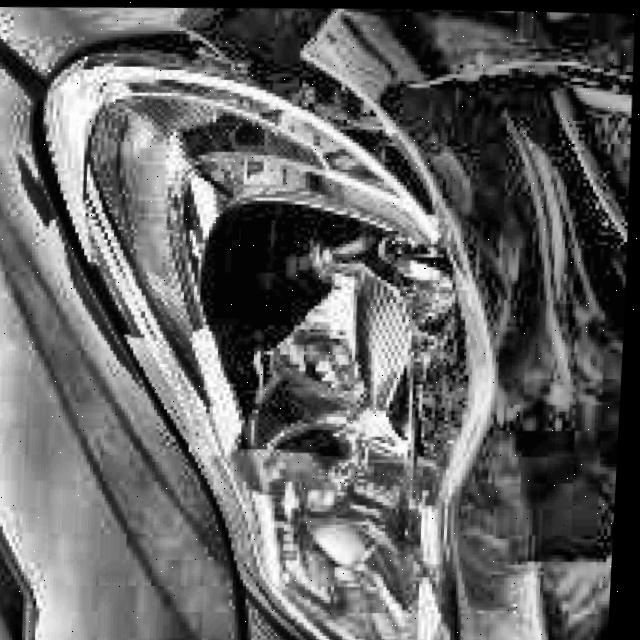head_lamp: (190, 186, 480, 457)
